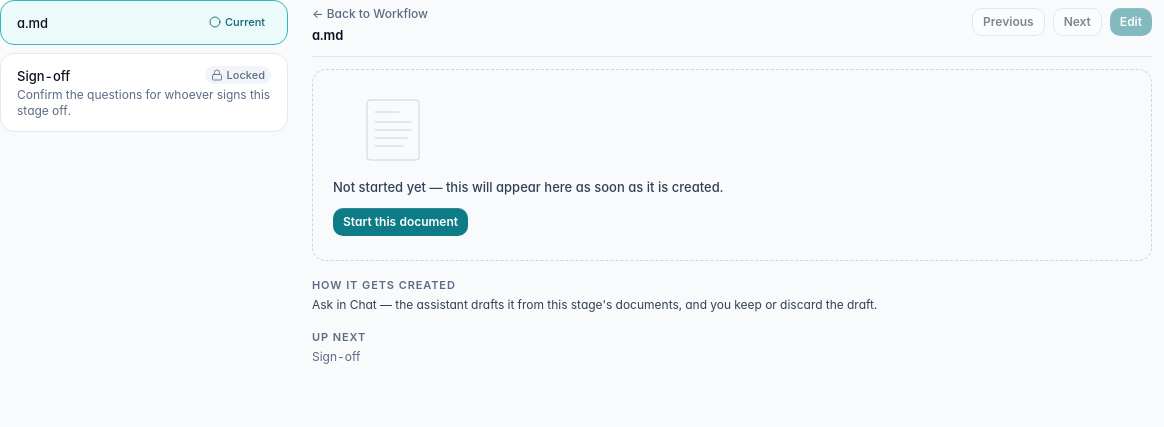
Test: a step whose document does not exist yet › says so, in words, and opens nothing when it cannot be started
Click the button "Start this document": (400, 222) [333, 208, 468, 236]
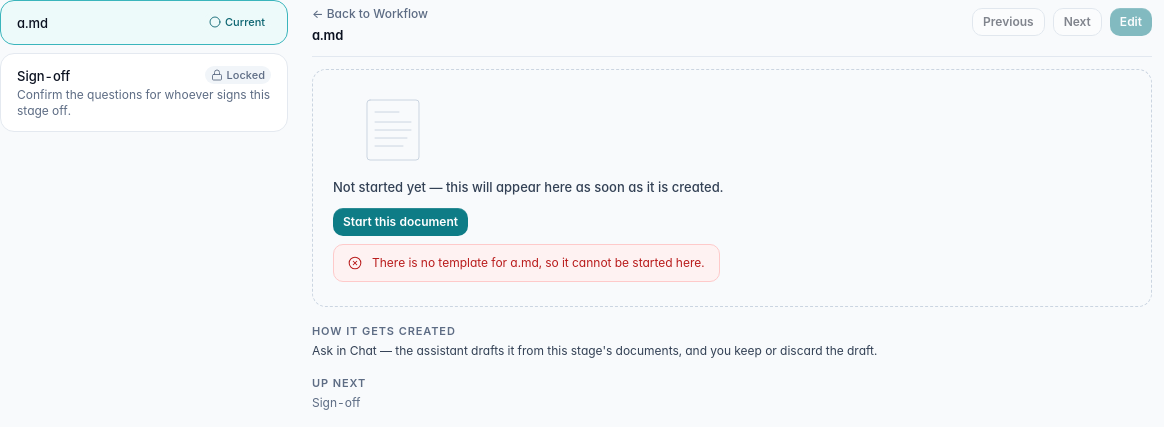
Expected: the text "There is no template for a.md, so it cannot be started here." is shown, [372, 255, 704, 271]
